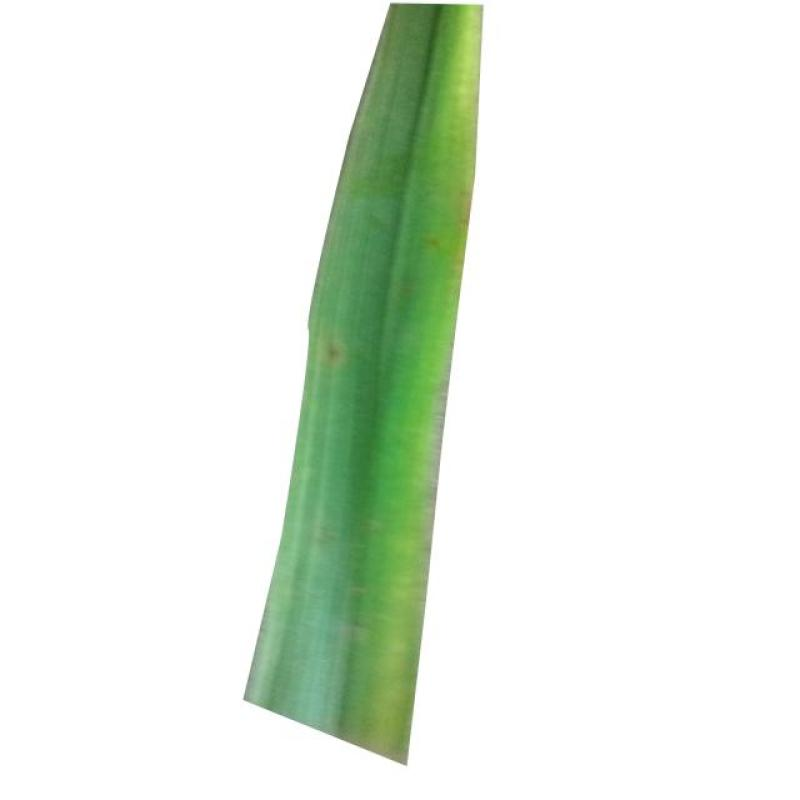Rice Tungro: (408, 4, 482, 211), (355, 546, 414, 760), (394, 331, 445, 514)
